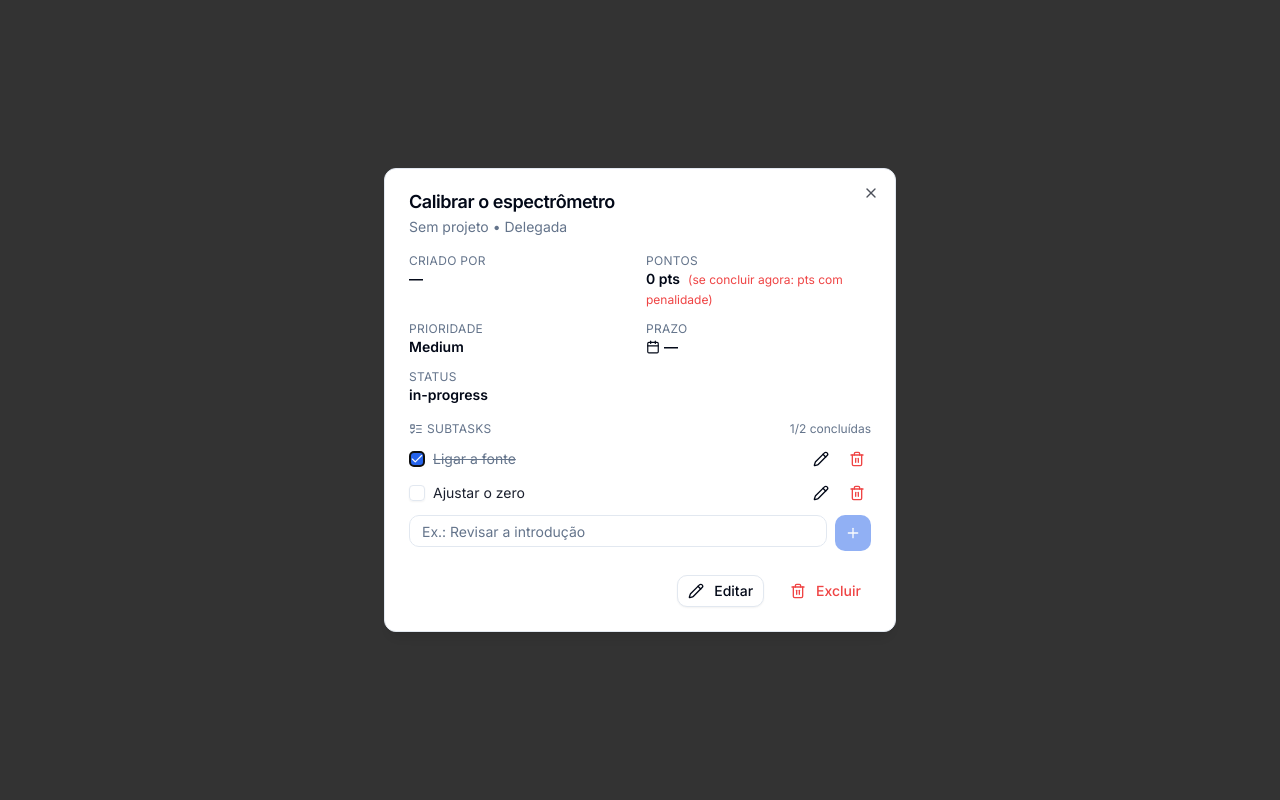
Test case: V4-5b · a lista de subtasks no diálogo › concluir a ÚLTIMA aberta move a mãe para Em Revisão e o diálogo explica (DEC-81)
The image size is (1280, 800).
Click the checkbox named "Concluir subtask Ajustar o zero" at (417, 493), box [409, 485, 425, 501]
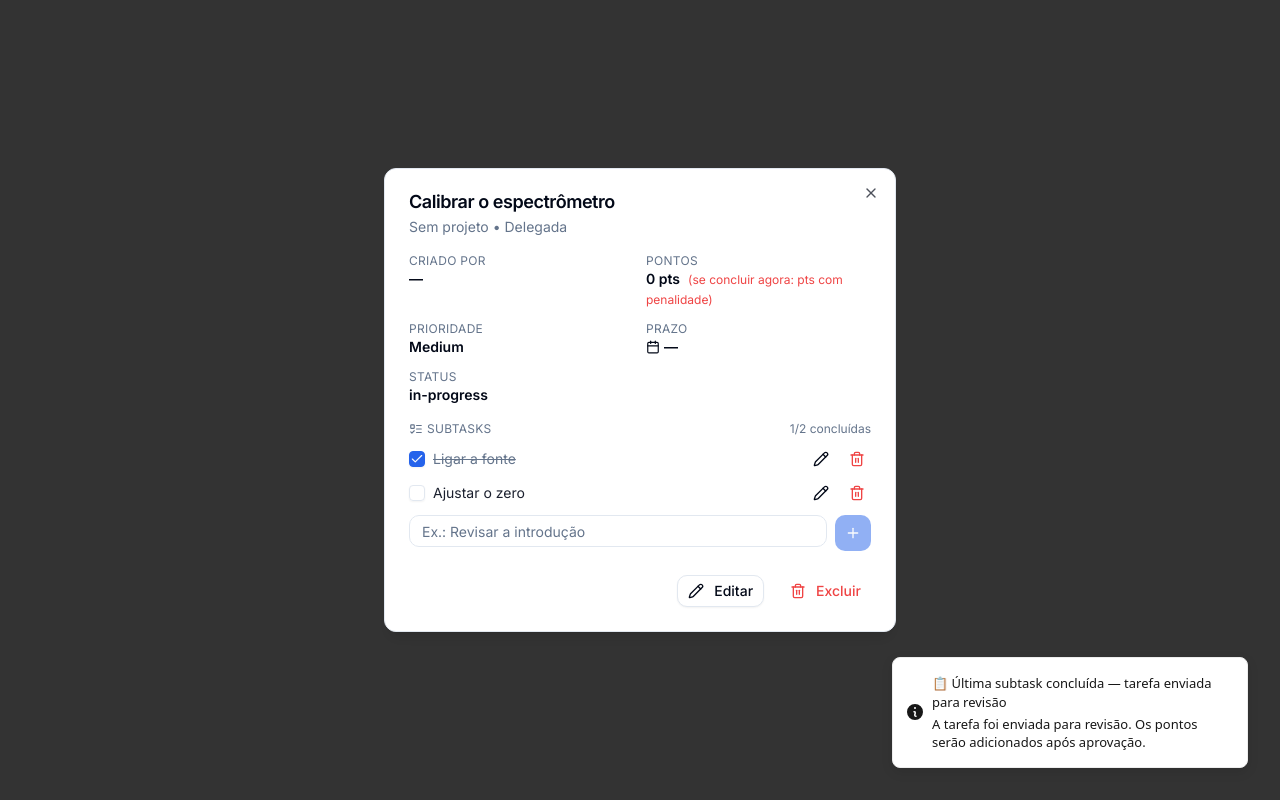
Expected: the text "📋 Última subtask concluída — tarefa enviada para revisão" is shown, [932, 674, 1231, 713]
